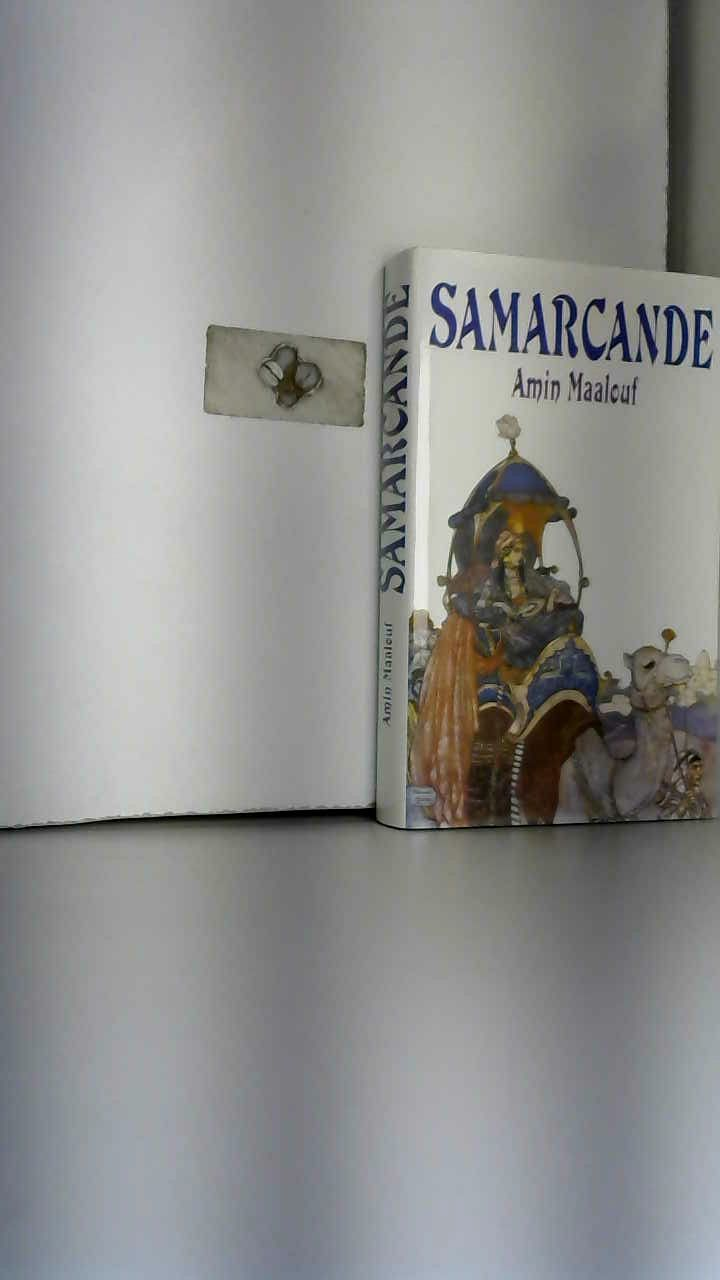book: (340, 218, 720, 862)
